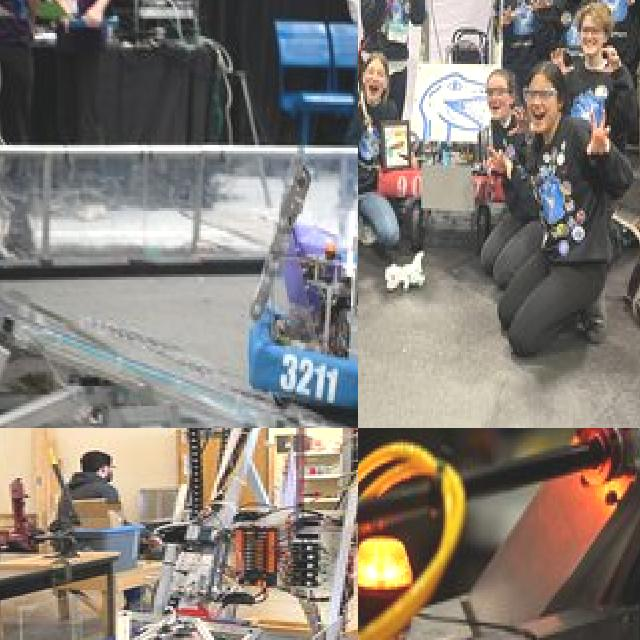FRC-Robots: (0, 428, 358, 640), (358, 449, 640, 640), (248, 145, 358, 428), (390, 0, 484, 192)
